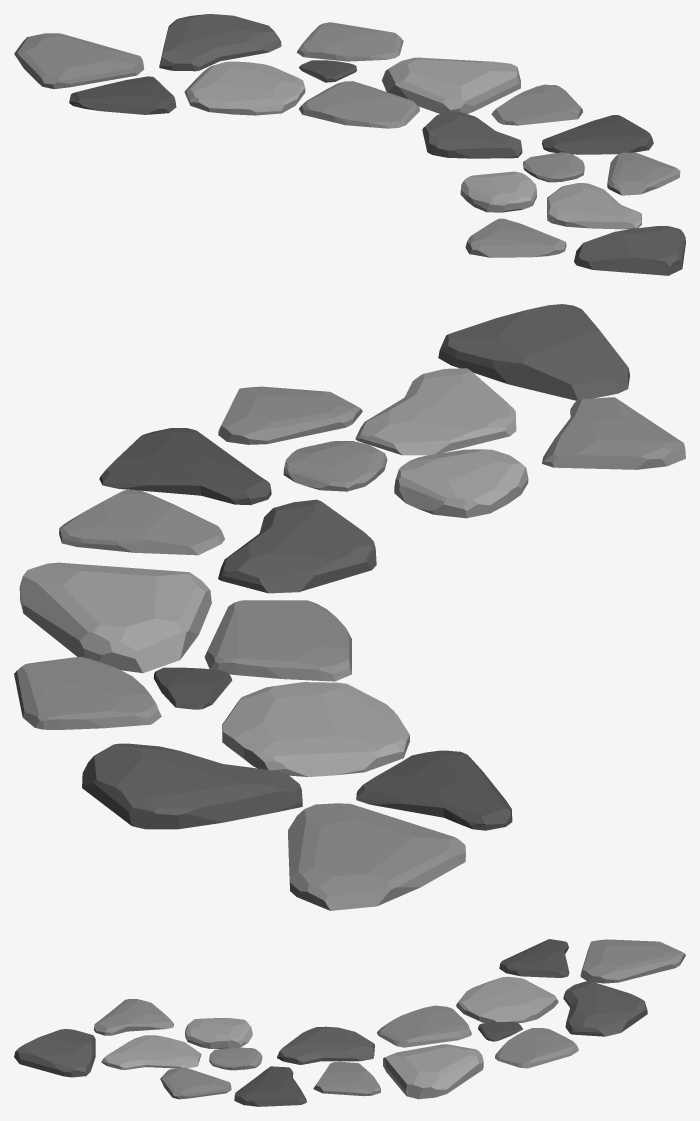
Rendered from CobbleStoneB01.fbx.
3 views of the same model, one above another, from view 1: azimuth 30°, elevation 25°; view 2: azimuth 150°, elevation 25°; view 3: azimuth 270°, elevation 25° (orthographic). The views are drawn at different scales.
Parts seen in each view (by area): view 1: LOD0; view 2: LOD0; view 3: LOD0.
Part boxes in pixels (box(x1,y1,x2,y2)): LOD0: box(14, 14, 685, 275); LOD0: box(14, 304, 685, 910); LOD0: box(14, 939, 685, 1106).
Size of what is drawn, in the model's own units: 537 by 924 by 23.45.
